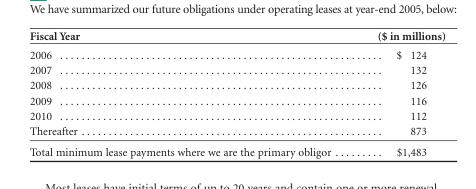table: (28, 28, 444, 157)
table column: (28, 28, 353, 157), (353, 28, 444, 157)
table column header: (28, 28, 444, 44)
table row: (28, 44, 444, 62), (28, 123, 444, 141), (28, 28, 444, 44), (28, 92, 444, 108), (28, 141, 444, 157), (28, 62, 444, 77), (28, 77, 444, 92), (28, 108, 444, 123)
